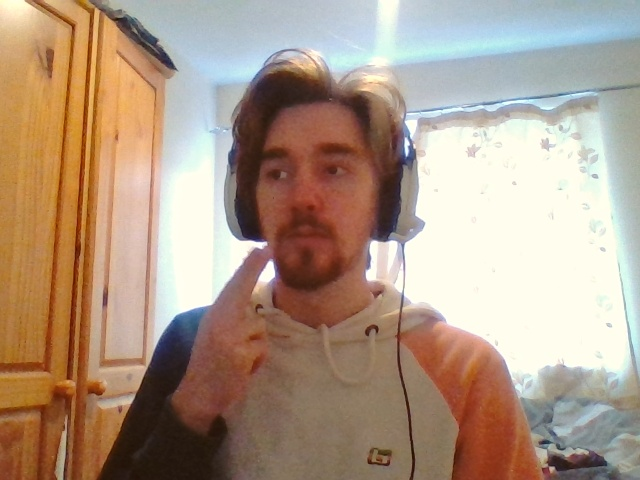afternoon: (194, 248, 269, 398)
